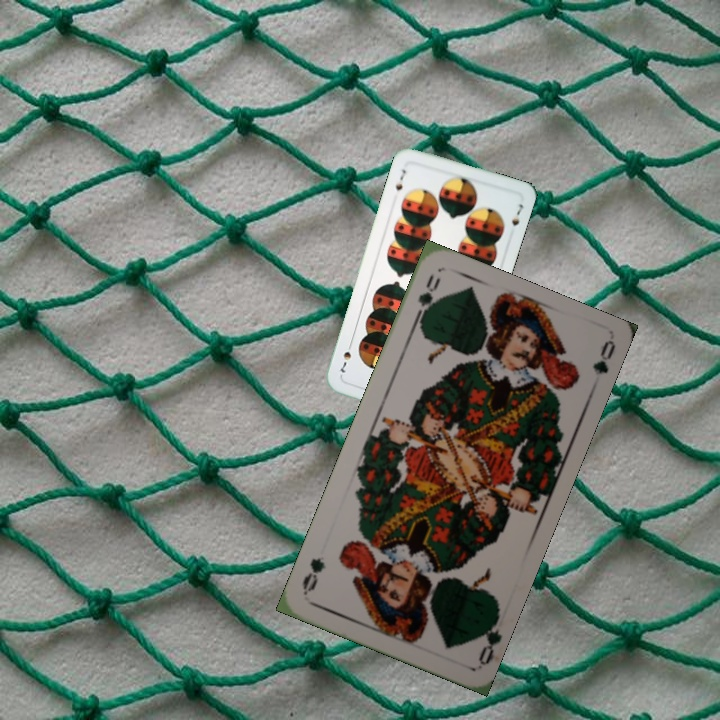GO: (409, 270, 443, 328), (472, 609, 503, 668)
S7: (391, 165, 408, 195)
